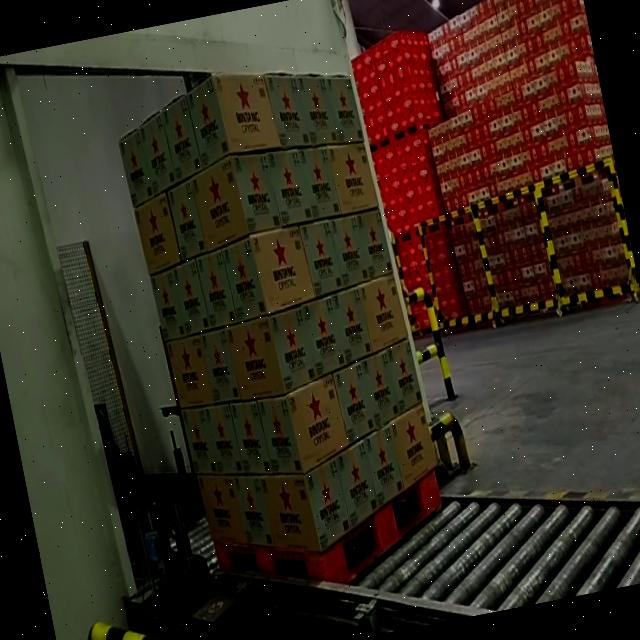pallet: (95, 38, 462, 622)
